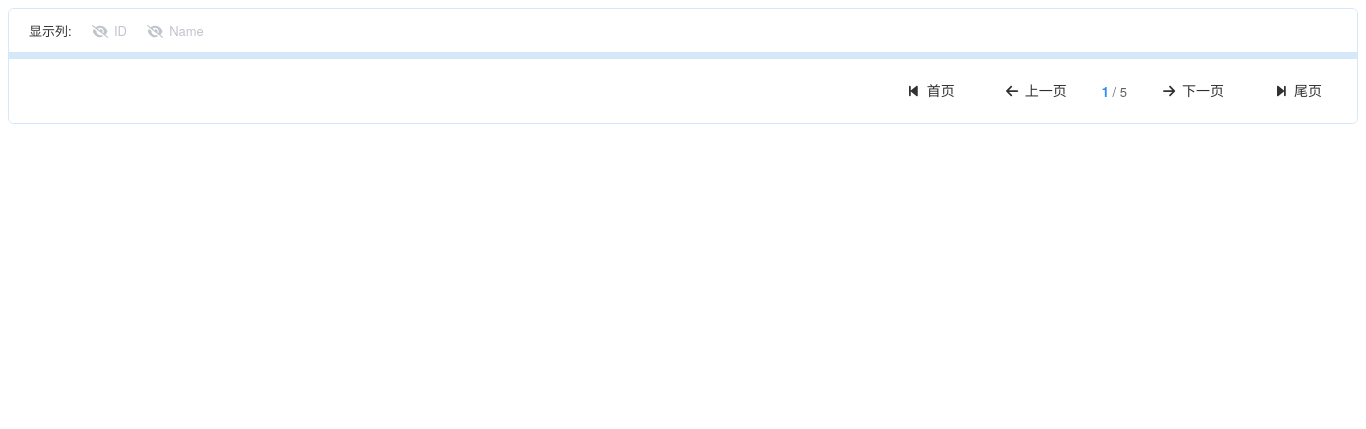
Test: SuList.vue › should handle internal pagination correctly
Expected: the text with class "su-list__page-info-current" reads "1", [1102,82,1109,100]
Click the button with class "su-button" showing "下一页" at [1193, 91], box [1147,75,1239,107]
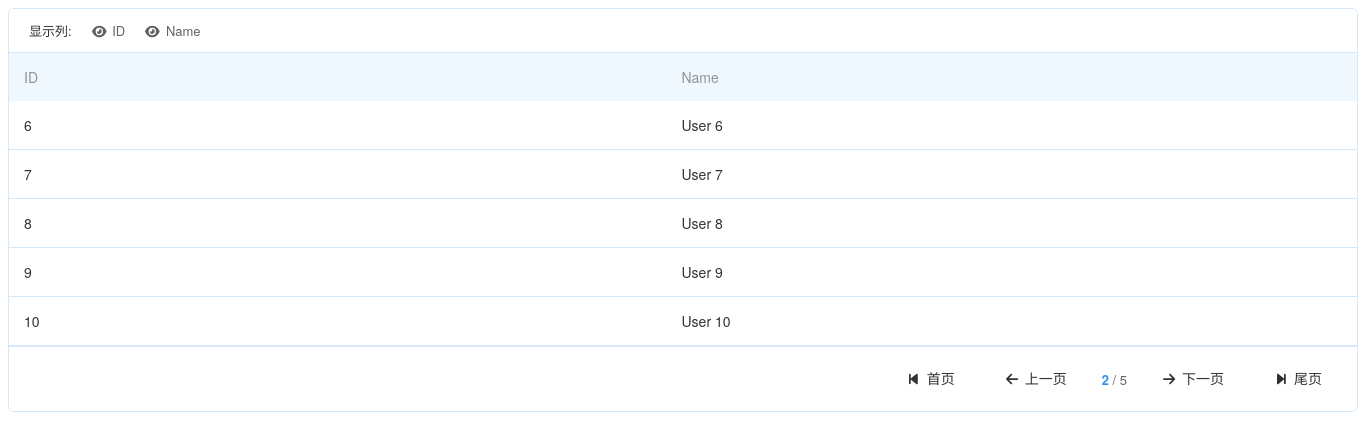
Result: the text with class "su-list__page-info-current" reads "2" at [1102,370,1109,388]
Result: the element with class "su-list__table-row" shows "User 6" at [682,115,723,135]
